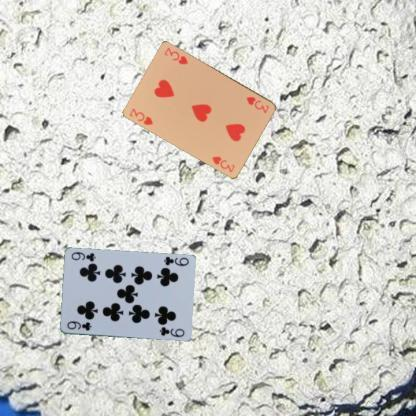3h: (244, 94, 271, 116), (127, 105, 154, 126)
9c: (64, 318, 93, 333), (161, 254, 190, 268)
